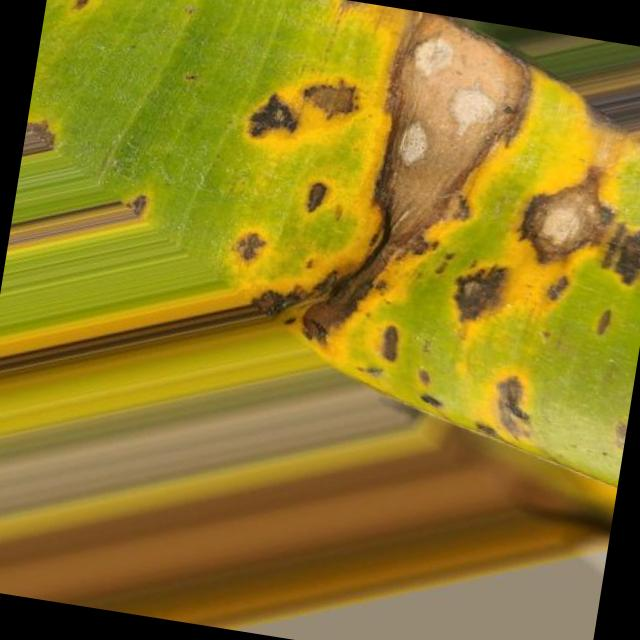Banana_Black_Sigatoka: (206, 6, 640, 435)
